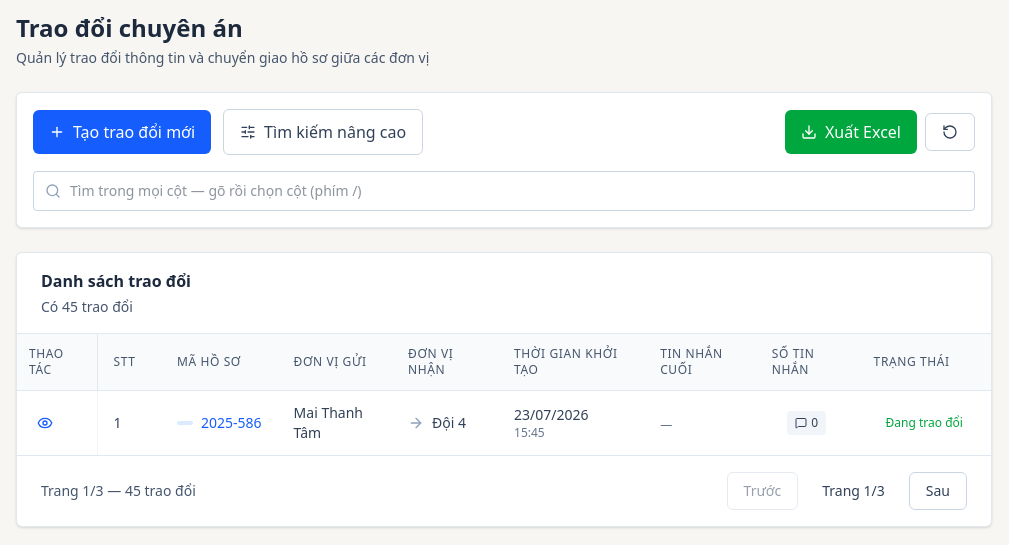
Test: CaseExchangePage — tìm kiếm phía máy chủ › phân trang ở máy chủ: tổng từ máy chủ, trang sau gửi offset, STT theo trang
Expected: the button with test id "view-thread-e1" is shown, 29,407 -> 61,439
Expected: the text with test id "exchange-total" reads "45", 62,297 -> 78,316
Click the button with test id "exchange-next-page": (938, 491) 909,472 -> 967,510
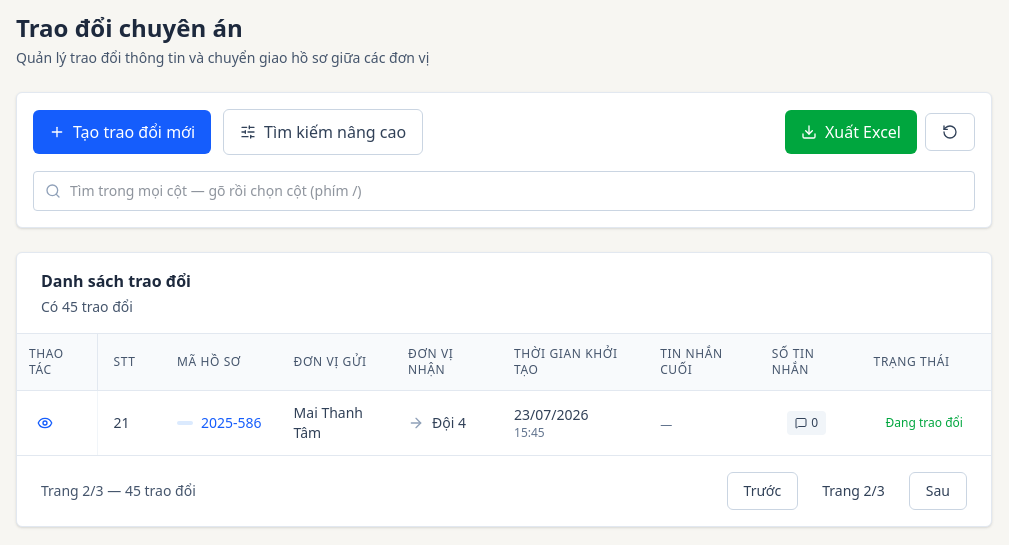
Result: the text "21" is shown at 97,390 -> 161,455
